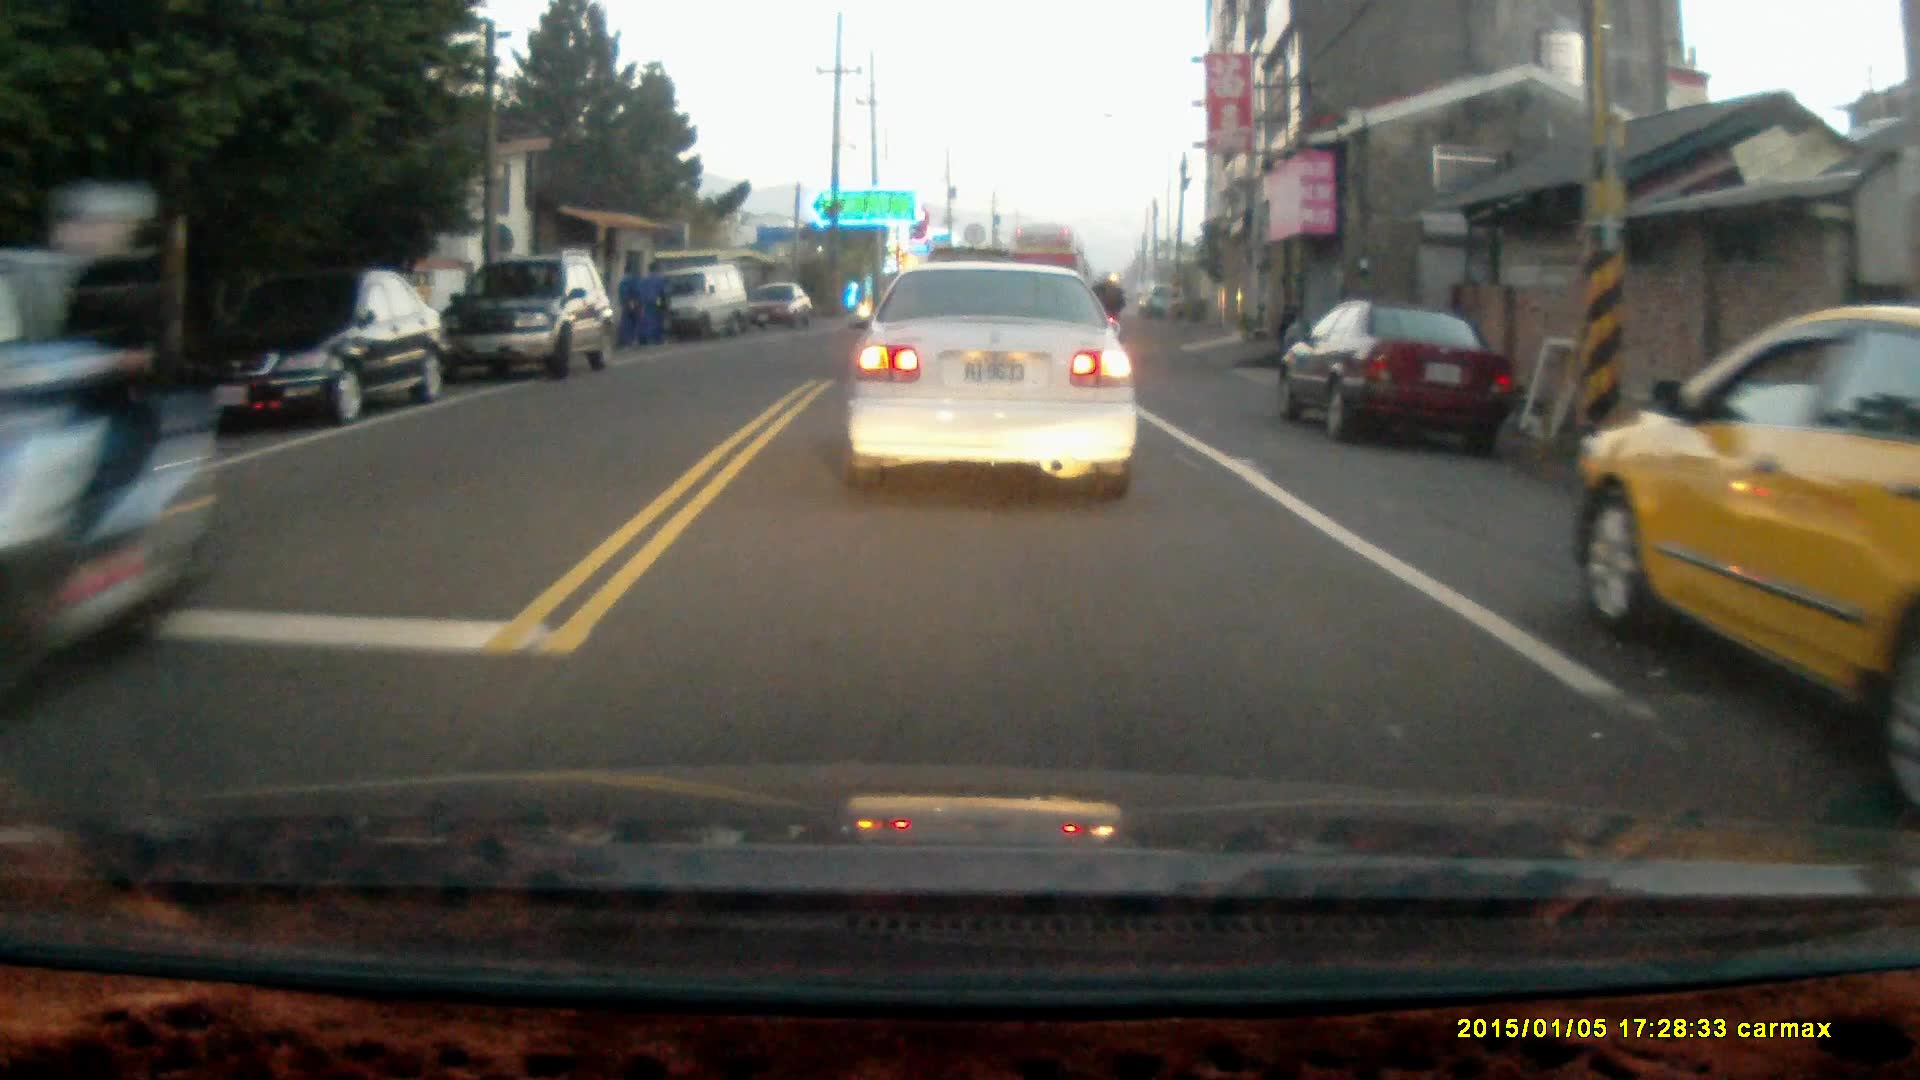pedestrian: (614, 263, 643, 349), (638, 262, 666, 352)
rider: (0, 185, 225, 727)
vehicle: (1567, 304, 1920, 822), (849, 262, 1141, 507), (172, 265, 448, 427), (1278, 299, 1518, 452), (435, 252, 616, 382), (642, 267, 752, 342), (730, 281, 813, 332)
